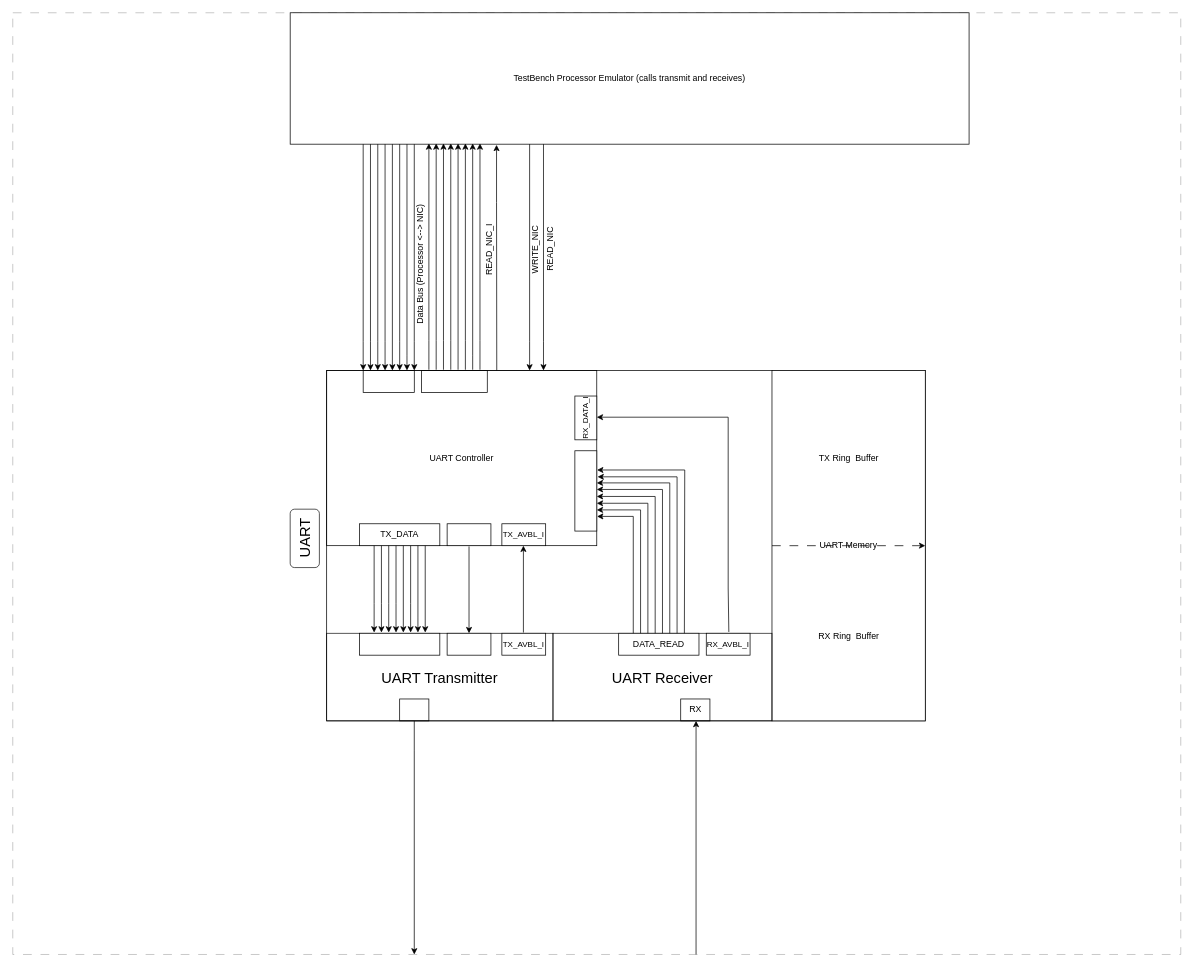
The diagram is 1194 pixels wide and 973 high, and some of its shapes have lost their labels. Each missing label, with the centre of its shape:
DATA_IN: the point at 388,381
DATA_OUT: the point at 454,381
DATA_SEND: the point at 399,644
RX_DATA: the point at 585,490
TX: the point at 414,709
TX_DATA_I: the point at 468,534
TX_SEND_I: the point at 468,644
